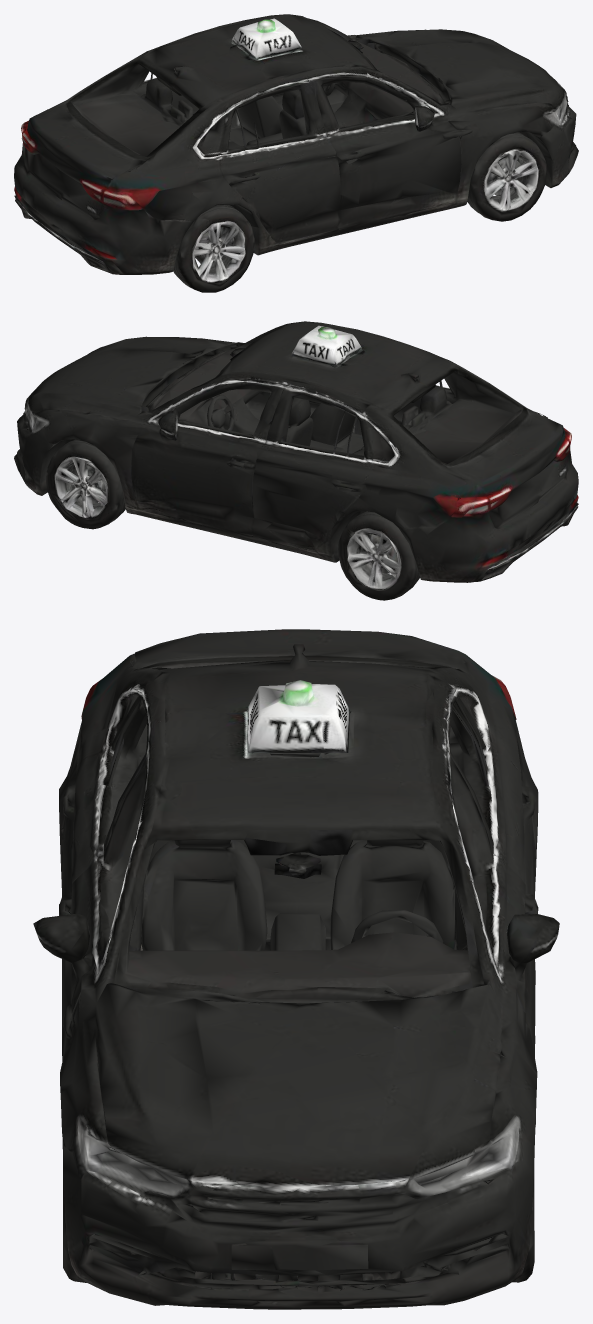
The model's file is prop.taxi.paris.glb.
3 views of the same model, one above another, from view 1: azimuth 30°, elevation 25°; view 2: azimuth 150°, elevation 25°; view 3: azimuth 270°, elevation 25° (orthographic). The views are drawn at different scales.
Visible parts, largest first — view 1: tripo_node_e6e8290a-d1f8-453c-8557-9ce8f6c4f04c; view 2: tripo_node_e6e8290a-d1f8-453c-8557-9ce8f6c4f04c; view 3: tripo_node_e6e8290a-d1f8-453c-8557-9ce8f6c4f04c.
Part boxes in pixels (bbox=[...]): tripo_node_e6e8290a-d1f8-453c-8557-9ce8f6c4f04c: bbox=[14, 14, 578, 292]; tripo_node_e6e8290a-d1f8-453c-8557-9ce8f6c4f04c: bbox=[14, 321, 578, 600]; tripo_node_e6e8290a-d1f8-453c-8557-9ce8f6c4f04c: bbox=[33, 629, 559, 1309].
Size of the model in its own units: 0.9796 by 0.3781 by 0.4435.
1 material, 1 textured.
